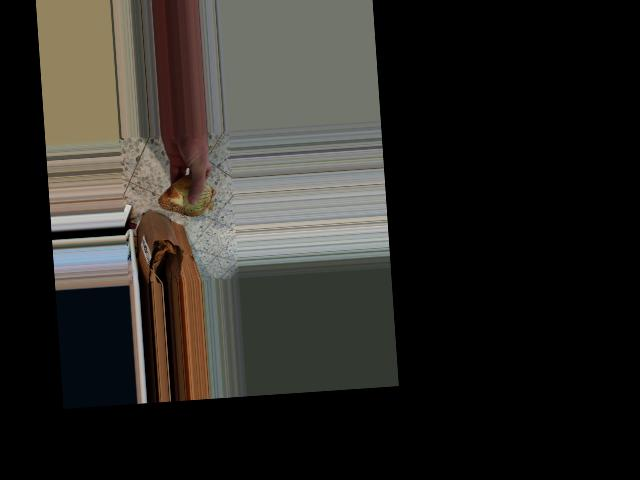onion: (154, 168, 215, 226)
